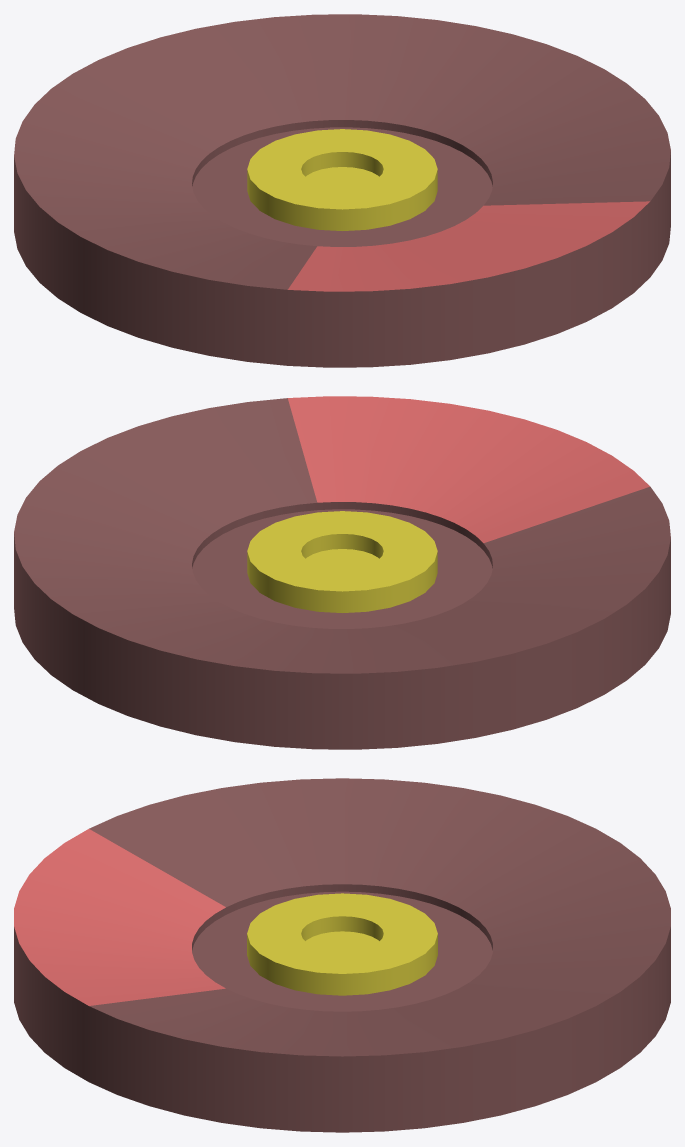
File: StationFlygear.fbx
3 views of the same model, one above another, from view 1: azimuth 30°, elevation 25°; view 2: azimuth 150°, elevation 25°; view 3: azimuth 270°, elevation 25° (orthographic).
Parts seen in each view (by area): view 1: Model; view 2: Model; view 3: Model.
Part boxes in pixels (box(x1,y1,x2,y2)): Model: box(14, 14, 670, 367); Model: box(14, 396, 670, 749); Model: box(14, 778, 670, 1132).
Size of the model in its own units: 195 by 24.91 by 195.
